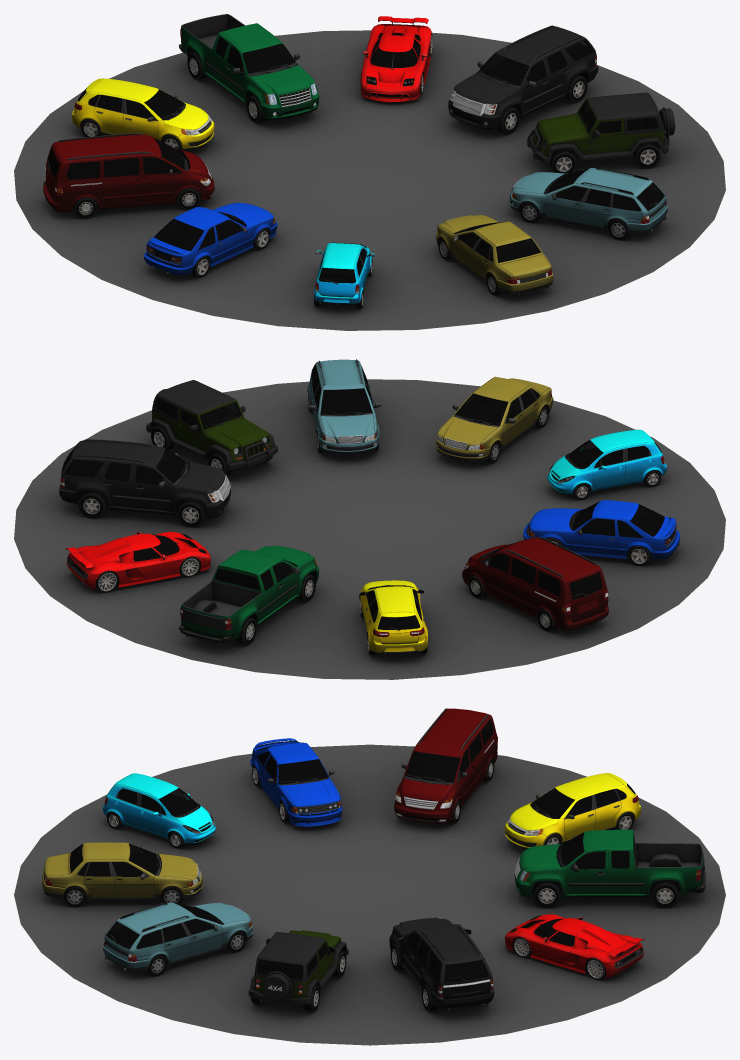
Rendered from passenger-pack.glb.
3 views of the same model, one above another, from view 1: azimuth 30°, elevation 25°; view 2: azimuth 150°, elevation 25°; view 3: azimuth 270°, elevation 25° (orthographic).
Size of the model in its own units: 19.27 by 1.76 by 19.27.
Materials: 22 (22 with a texture image).
